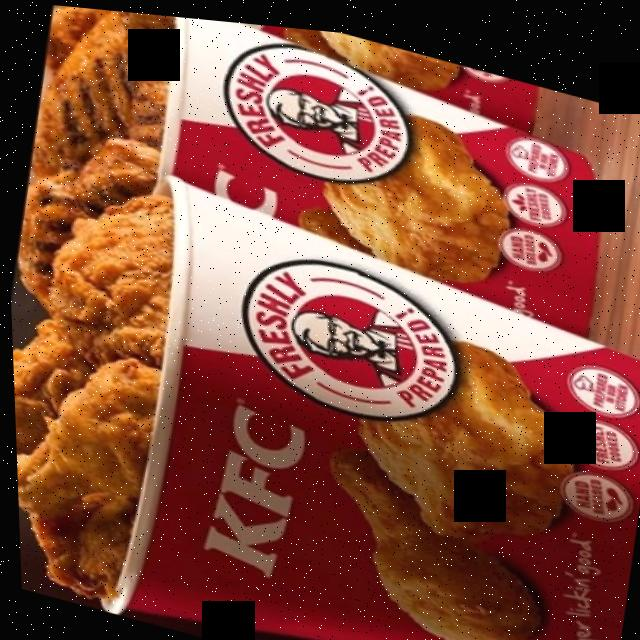Frango: (30, 162, 190, 375), (10, 327, 168, 541)
